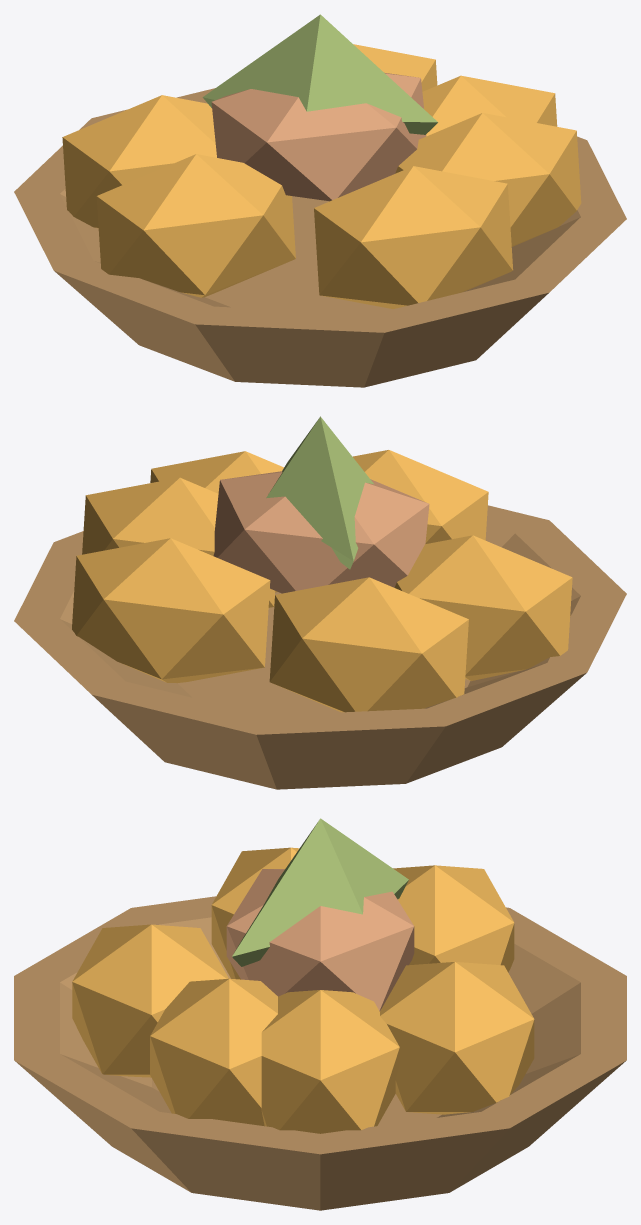
The model's file is CC_MealGood.fbx.
The picture shows the model from 3 angles, top to bottom: view 1: azimuth 30°, elevation 25°; view 2: azimuth 150°, elevation 25°; view 3: azimuth 270°, elevation 25°; orthographic projection. The views are drawn at different scales.
Parts seen in each view (by area): view 1: Serving dish.001, Food.008, Food.010, Protein portion, Food.011, Food.007, Garnish, Food.006, Food.009; view 2: Serving dish.001, Food.009, Food.007, Protein portion, Food.010, Food.006, Garnish, Food.008, Food.011; view 3: Serving dish.001, Food.009, Food.006, Food.011, Food.008, Protein portion, Garnish, Food.007, Food.010.
Boxes of the visible parts, x1,y1,x2,y2 form: Serving dish.001: (14, 88, 626, 387); Food.008: (314, 166, 513, 309); Food.010: (96, 154, 295, 297); Protein portion: (211, 72, 426, 201); Food.011: (395, 113, 581, 246); Food.007: (62, 95, 216, 228); Garnish: (202, 14, 437, 134); Food.006: (422, 75, 557, 136); Food.009: (353, 44, 437, 91); Serving dish.001: (14, 505, 626, 789); Food.009: (72, 538, 270, 683); Food.007: (269, 577, 468, 712); Protein portion: (213, 471, 429, 593); Food.010: (394, 535, 572, 680); Food.006: (82, 477, 275, 607); Garnish: (266, 416, 373, 569); Food.008: (353, 450, 488, 543); Food.011: (150, 451, 283, 592); Serving dish.001: (14, 896, 626, 1210); Food.009: (380, 962, 534, 1114); Food.006: (261, 990, 399, 1133); Food.011: (150, 978, 277, 1126); Food.008: (72, 924, 228, 1077); Protein portion: (226, 869, 414, 1011); Garnish: (232, 818, 408, 966); Food.007: (393, 865, 514, 972); Food.010: (211, 847, 299, 979).
Size of the model in its own units: 0.76 by 0.39 by 0.7228.
